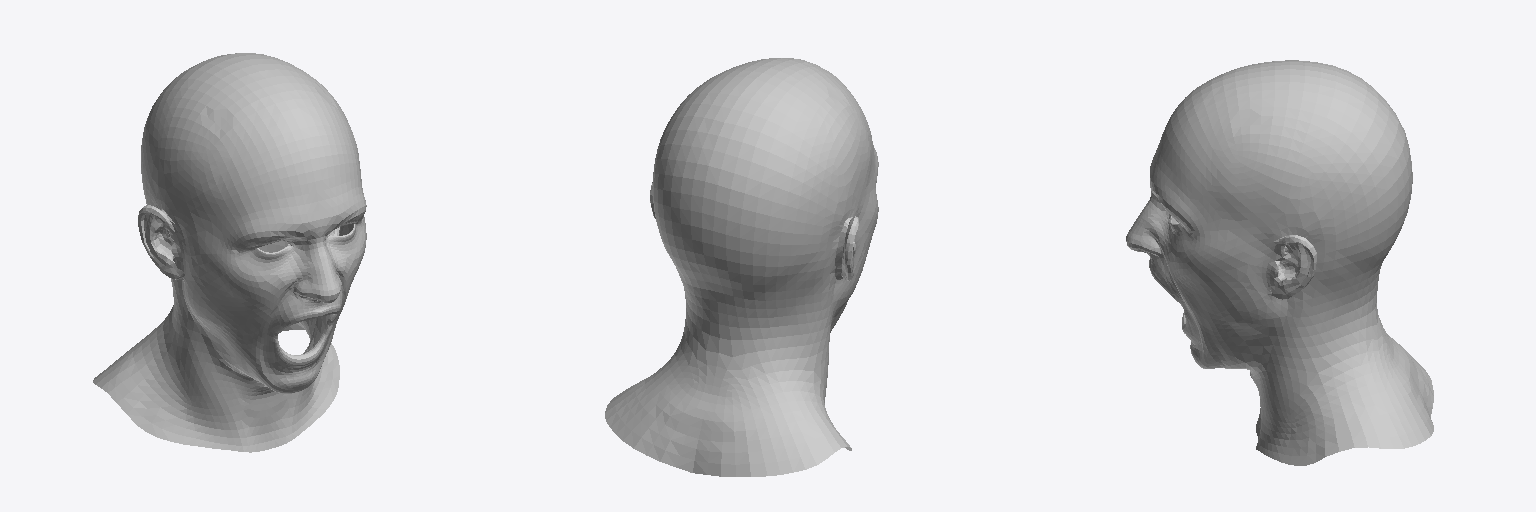
File: jawOpen3.obj
3 views of the same model, side by side, from view 1: azimuth 30°, elevation 25°; view 2: azimuth 150°, elevation 25°; view 3: azimuth 270°, elevation 25° (orthographic).
Parts seen in each view (by area): view 1: HeadBack, Face, NasolabialArea, Jaw, EyelidsLower, EyelidsUpper; view 2: HeadBack, Face, EarsBack; view 3: HeadBack, Face, NasolabialArea, Jaw, EyelidsLower.
Part boxes in pixels (bbox=[...]): HeadBack: bbox=[93, 53, 357, 452]; Face: bbox=[138, 145, 366, 378]; NasolabialArea: bbox=[261, 265, 347, 335]; Jaw: bbox=[256, 304, 344, 393]; EyelidsLower: bbox=[236, 224, 364, 275]; EyelidsUpper: bbox=[235, 211, 365, 261]; HeadBack: bbox=[605, 58, 870, 476]; Face: bbox=[650, 111, 878, 328]; EarsBack: bbox=[650, 183, 857, 280]; HeadBack: bbox=[1177, 60, 1433, 465]; Face: bbox=[1137, 105, 1316, 363]; NasolabialArea: bbox=[1126, 219, 1185, 306]; Jaw: bbox=[1182, 301, 1222, 368]; EyelidsLower: bbox=[1162, 211, 1191, 251].
Bounding box in the file's own units: 2.94 × 4.72 × 3.54.